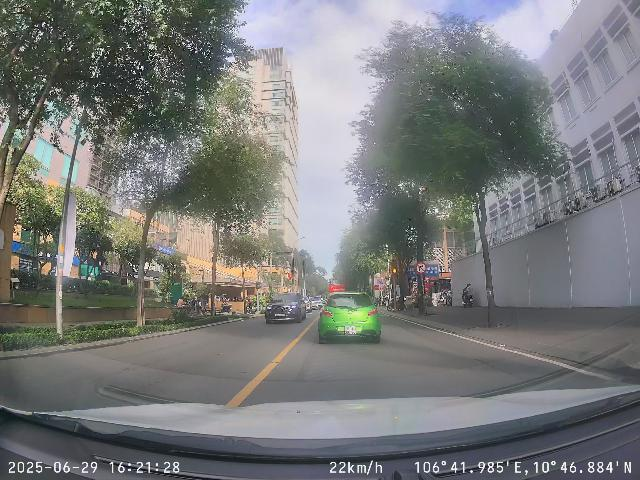123b-cam-re-phai: (415, 261, 427, 274)
